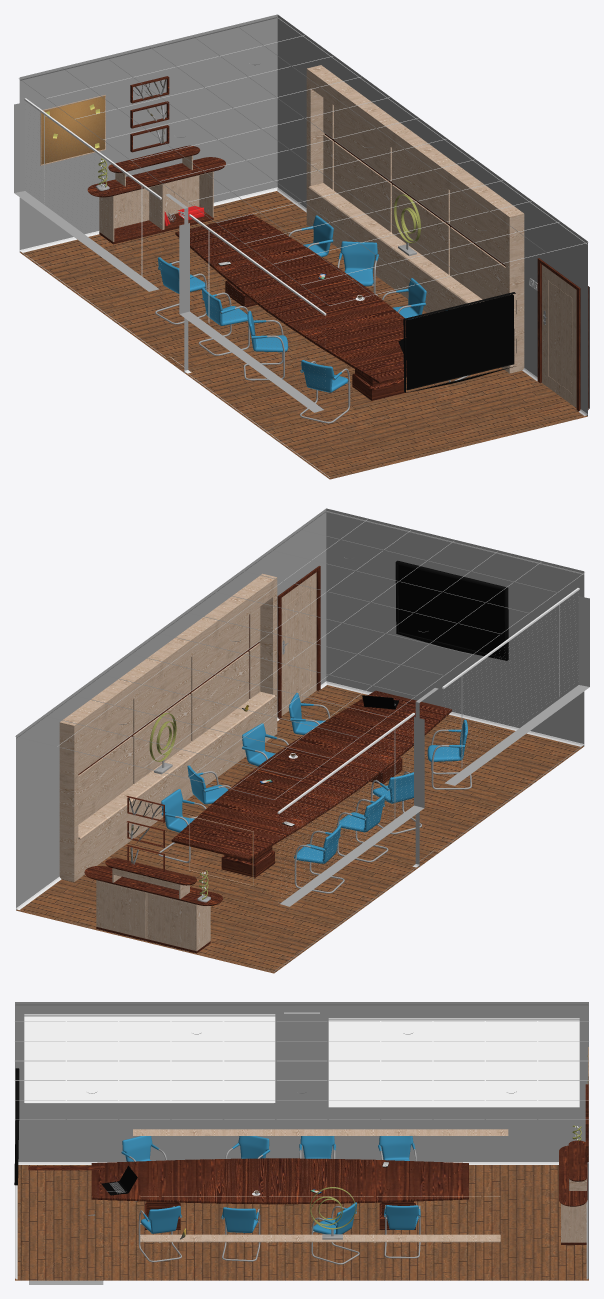
3 views of the same model, one above another, from view 1: azimuth 30°, elevation 25°; view 2: azimuth 150°, elevation 25°; view 3: azimuth 270°, elevation 25° (orthographic). The views are drawn at different scales.
Visible parts, largest first — view 1: _walls(AO), _floor, _cupboard(AO), _darkWood_TableAO, _whiteWood(noAO), _screen, _darkWood_Other, _reflectiveWhite, chairMain, boardBase, _plasticNonReflective, chairAvatar2 (+4 smaller); view 2: _walls(AO), _floor, _cupboard(AO), _darkWood_TableAO, _whiteWood(noAO), _screen, _reflectiveWhite, _darkWood_Other, chairMain, _plasticNonReflective, _body, chrome (+3 smaller); view 3: _reflectiveWhite, _floor, _walls(AO), _darkWood_TableAO, _cupboard(AO), chairMain, _darkWood_Other, _plasticNonReflective, _whiteWood(noAO), chrome, chairAvatar2, chairAvatar1 (+2 smaller).
Part boxes in pixels (left/top/right/bottom): _walls(AO): left=14, top=14, right=589, bottom=416; _floor: left=20, top=191, right=587, bottom=479; _cupboard(AO): left=306, top=65, right=524, bottom=373; _darkWood_TableAO: left=175, top=214, right=406, bottom=400; _whiteWood(noAO): left=40, top=95, right=576, bottom=407; _screen: left=406, top=294, right=513, bottom=389; _darkWood_Other: left=87, top=76, right=588, bottom=411; _reflectiveWhite: left=19, top=25, right=588, bottom=323; chairMain: left=157, top=215, right=426, bottom=392; boardBase: left=41, top=96, right=104, bottom=164; _plasticNonReflective: left=20, top=17, right=587, bottom=477; chairAvatar2: left=338, top=241, right=378, bottom=286; _walls(AO): left=16, top=508, right=589, bottom=910; _floor: left=16, top=685, right=583, bottom=973; _cupboard(AO): left=59, top=573, right=277, bottom=881; _darkWood_TableAO: left=171, top=690, right=451, bottom=877; _whiteWood(noAO): left=96, top=572, right=316, bottom=951; _screen: left=398, top=564, right=504, bottom=657; _reflectiveWhite: left=15, top=519, right=584, bottom=819; _darkWood_Other: left=78, top=566, right=320, bottom=953; chairMain: left=161, top=693, right=467, bottom=863; _plasticNonReflective: left=16, top=511, right=583, bottom=971; _body: left=395, top=560, right=508, bottom=660; chrome: left=158, top=704, right=471, bottom=893; _reflectiveWhite: left=14, top=1014, right=589, bottom=1119; _floor: left=15, top=1165, right=588, bottom=1280; _walls(AO): left=15, top=1002, right=588, bottom=1284; _darkWood_TableAO: left=91, top=1158, right=468, bottom=1229; _cupboard(AO): left=133, top=1129, right=508, bottom=1242; chairMain: left=121, top=1136, right=420, bottom=1233; _darkWood_Other: left=28, top=1084, right=588, bottom=1244; _plasticNonReflective: left=15, top=1004, right=588, bottom=1279; _whiteWood(noAO): left=561, top=1047, right=588, bottom=1242; chrome: left=129, top=1149, right=420, bottom=1262; chairAvatar2: left=313, top=1202, right=357, bottom=1234; chairAvatar1: left=232, top=1136, right=270, bottom=1158.
Size of the model in its own units: 4.98 by 3.01 by 9.66.
26 materials, 10 textured.
